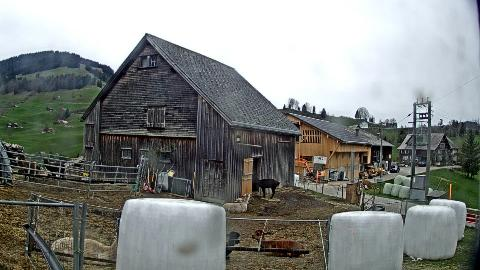car: (390, 166, 400, 172), (418, 162, 426, 166)
sheep: (51, 233, 120, 265), (252, 228, 306, 258), (252, 172, 280, 200), (227, 193, 251, 213), (16, 156, 36, 180), (226, 232, 240, 264), (43, 158, 65, 178), (222, 198, 244, 212)
